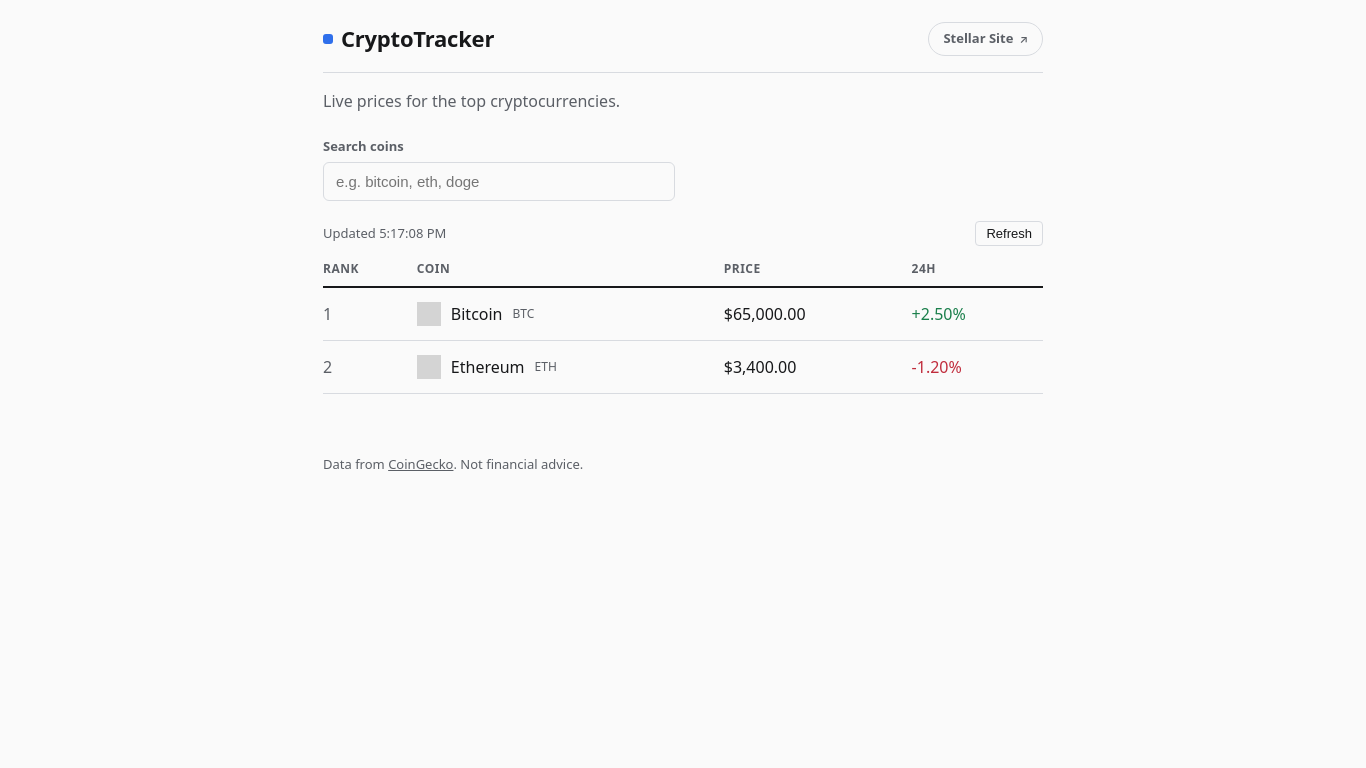
Test case: CoinDetailModal › has its own refresh control, distinct from the list's, that refetches the chart
The width and height of the screenshot is (1366, 768).
expect the table is shown: met, box [323,260,1043,394]
Click the button "Bitcoin BTC": (477, 314) [417,298,714,330]
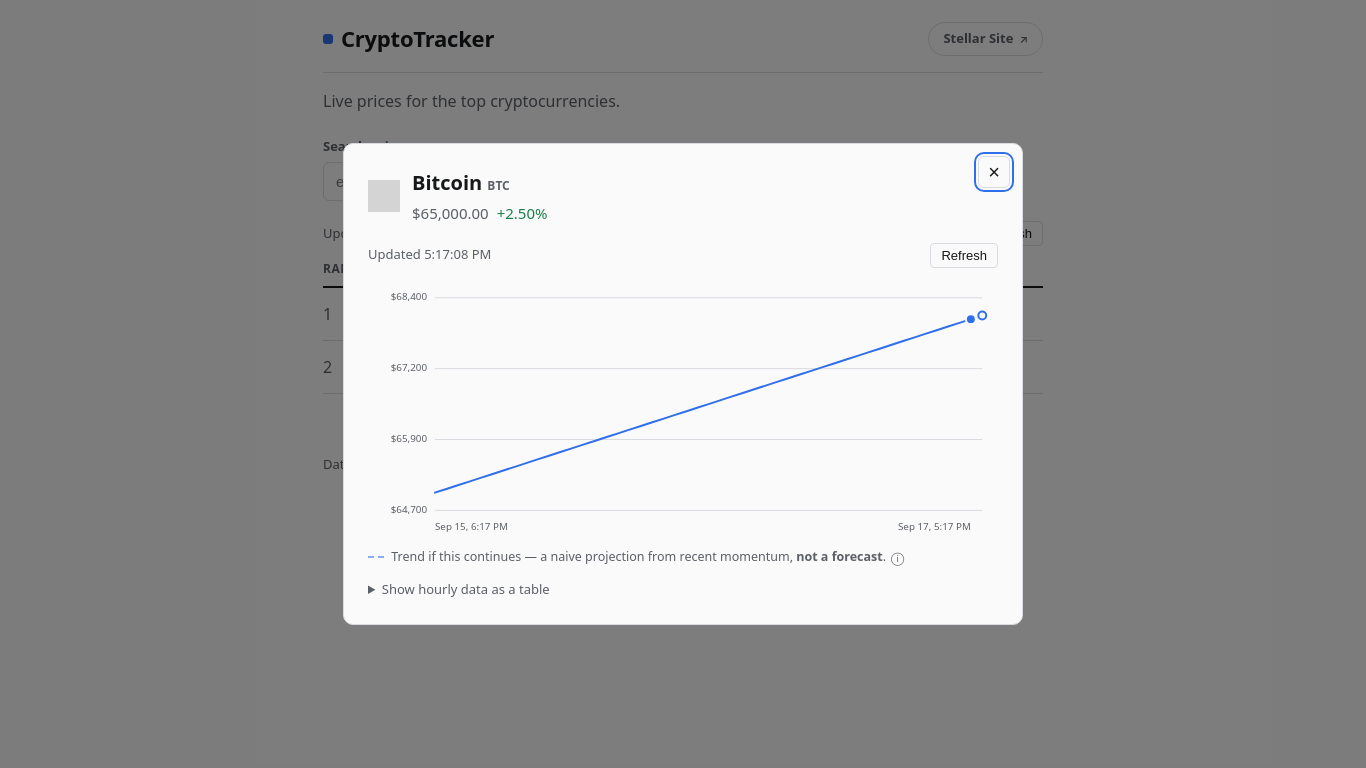
expect the picture named "Hourly price for Bitcoin" is shown: met, box [368,282,998,538]
expect the text "Updated 5:17:08 PM" is shown: met, box [368,245,491,265]
Click the button "Refresh": (964, 255) [930,243,998,268]
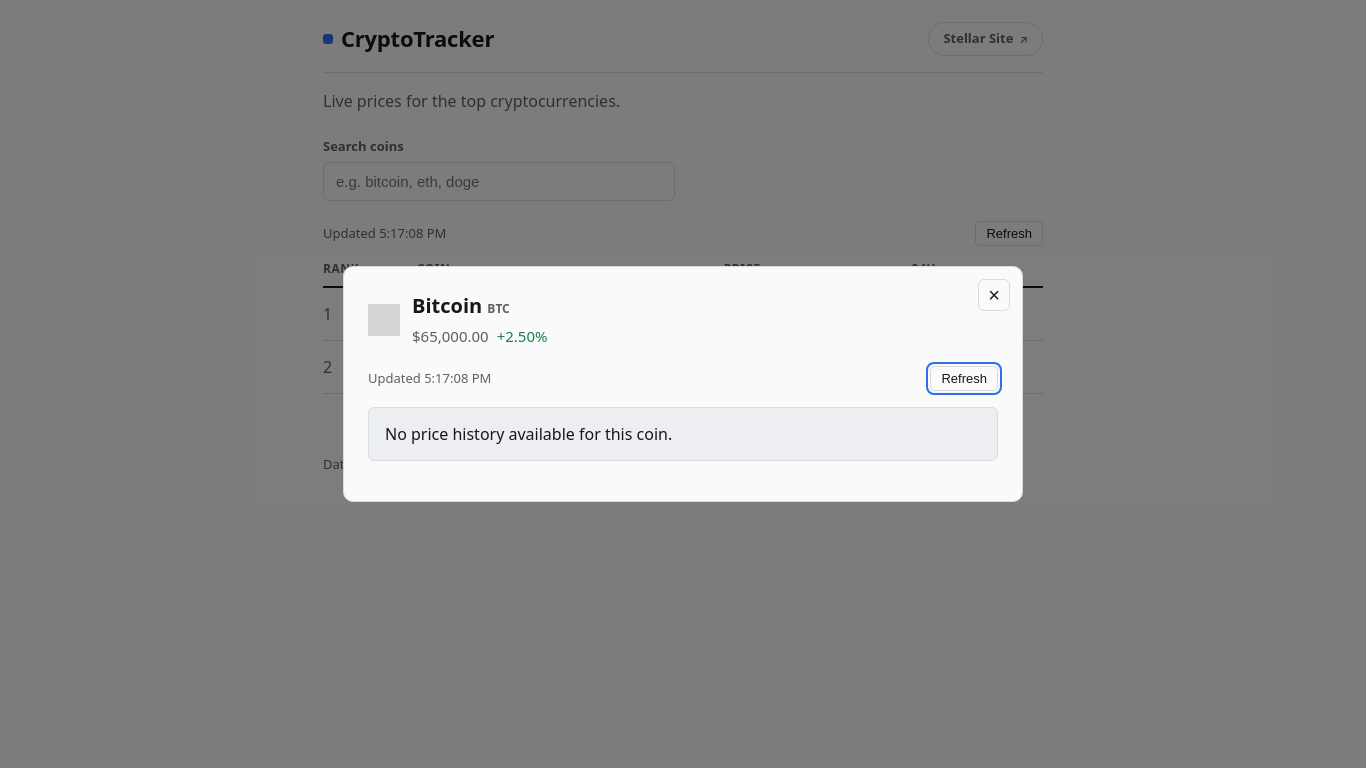
expect the text "No price history available for this coin." is shown: met, box [368,407,998,461]
